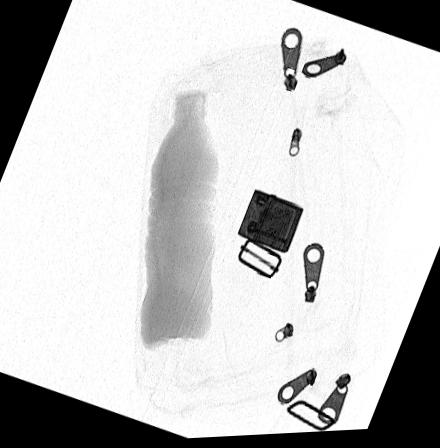Lighter: (235, 191, 303, 257)
